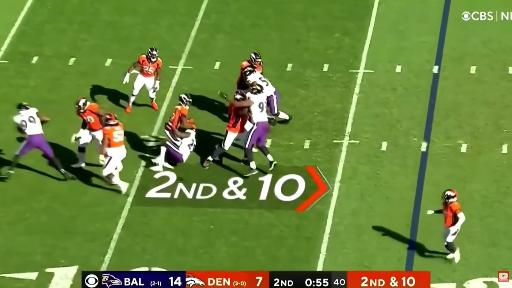Helmet: (249, 51, 262, 65), (76, 98, 90, 111), (442, 190, 457, 202), (147, 47, 158, 62), (179, 94, 191, 107), (104, 114, 118, 125), (233, 91, 246, 102), (251, 85, 265, 95), (16, 102, 31, 111), (244, 66, 256, 77)
Jersey: (167, 130, 195, 161), (14, 108, 43, 135), (237, 60, 262, 89), (77, 103, 102, 131), (247, 71, 275, 96), (165, 105, 188, 131), (227, 104, 247, 133), (247, 93, 267, 122), (103, 122, 125, 148), (138, 55, 162, 77), (443, 202, 461, 227), (241, 61, 262, 73)
Player: (3, 103, 74, 179), (231, 82, 276, 176), (203, 104, 248, 168), (428, 190, 465, 263), (244, 67, 291, 122), (124, 47, 162, 113), (72, 98, 104, 167), (103, 114, 129, 193), (151, 129, 195, 171), (164, 95, 195, 143), (165, 95, 195, 134), (237, 52, 262, 90)
